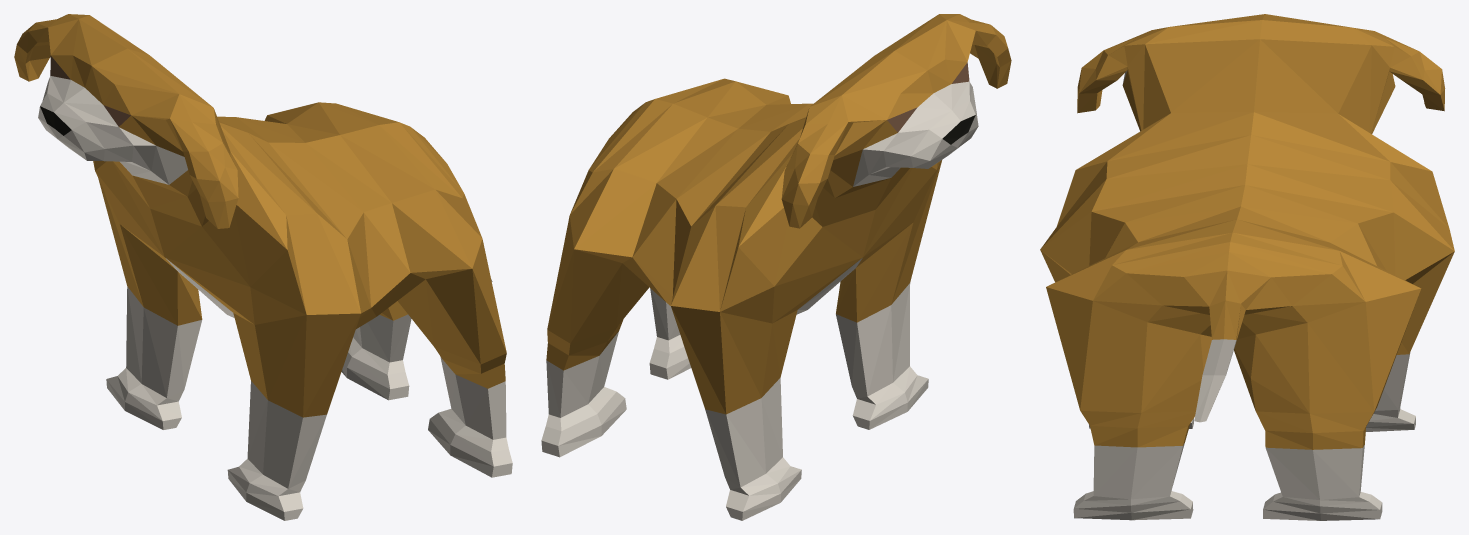
Rendered from labrador.glb.
3 views of the same model, side by side, from view 1: azimuth 30°, elevation 25°; view 2: azimuth 150°, elevation 25°; view 3: azimuth 270°, elevation 25° (orthographic). The views are drawn at different scales.
Size of the model in its own units: 1 by 1 by 1.
